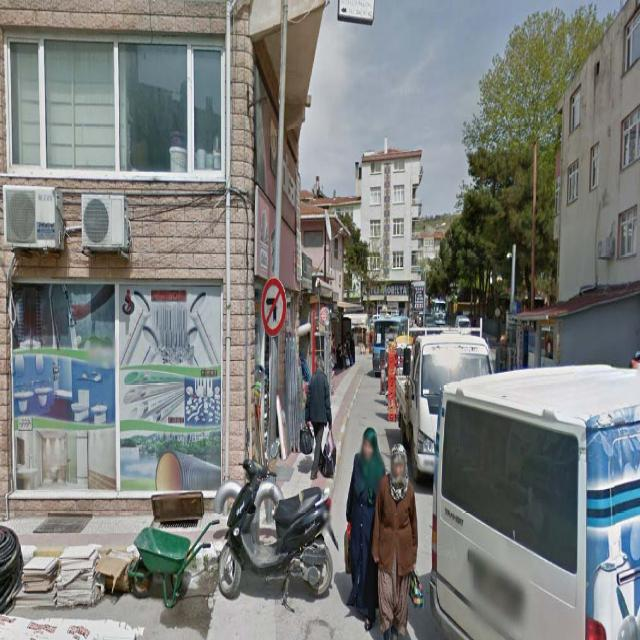soladonulmez: (262, 278, 286, 336)
